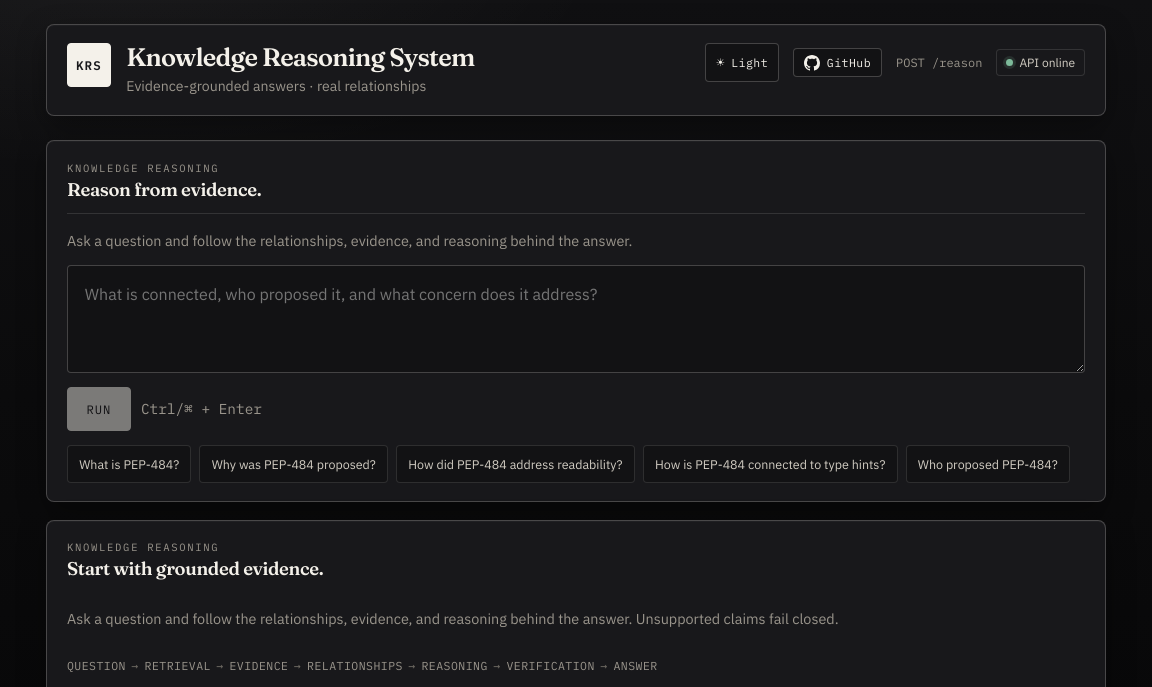
Test: Knowledge Reasoning Web UI › J: API/network error states
Replace the text in the text box named "Reasoning query" with "What is PEP-484?": [576, 319] box [67, 265, 1085, 373]
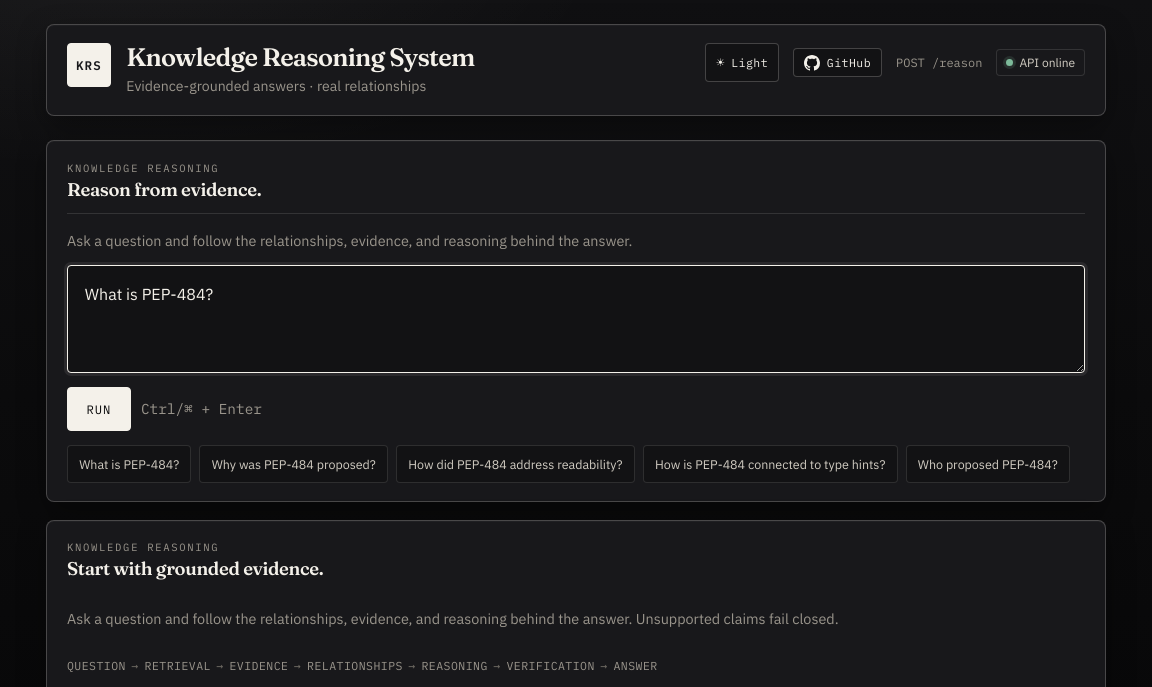
Click the button "Run": [99, 409] box [67, 387, 131, 431]
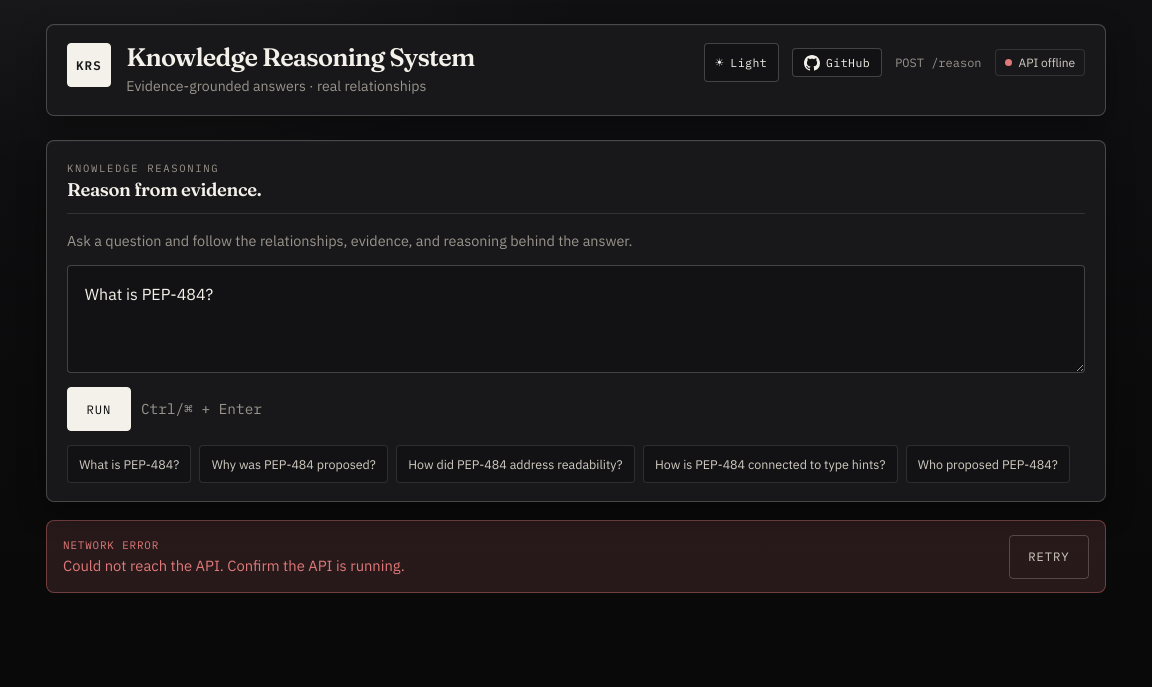
Expected: the message "Network error Could not reach the API. Confirm the API is running. Retry" is shown, [46, 520, 1106, 593]
Expected: the text "Network error" is shown, [63, 538, 159, 552]
Expected: the button "Retry" is shown, [1009, 535, 1089, 579]
